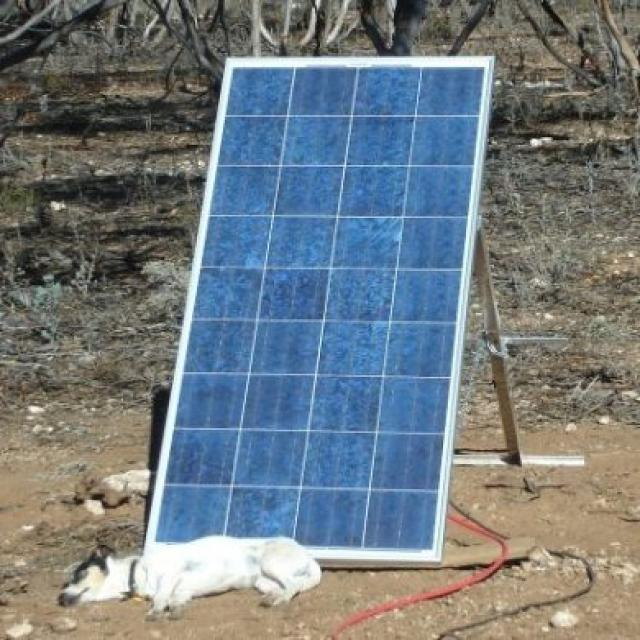dust-solar-panel: (152, 68, 481, 551)
